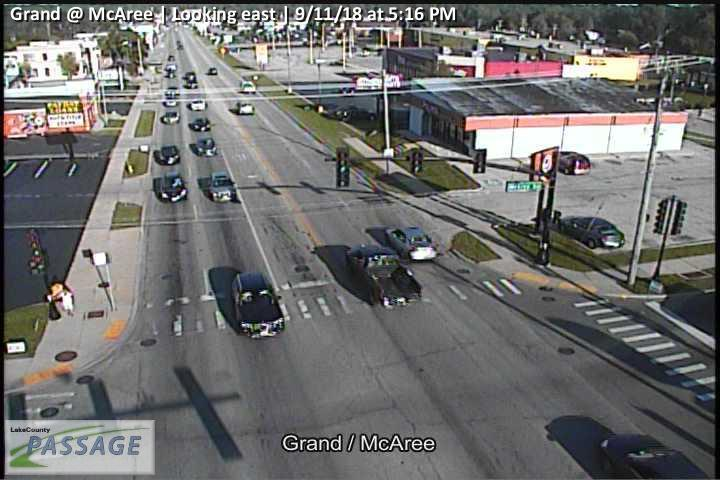Sedan: (598, 432, 711, 480), (232, 272, 285, 337), (560, 215, 625, 249), (385, 228, 438, 262), (159, 173, 188, 202), (208, 172, 236, 202), (558, 151, 591, 175), (196, 136, 217, 158), (159, 145, 179, 164), (190, 118, 212, 132), (234, 101, 254, 115), (189, 99, 206, 111), (239, 80, 256, 92), (163, 111, 179, 123), (167, 87, 180, 95), (186, 71, 196, 80), (166, 97, 176, 105), (187, 82, 197, 87), (209, 68, 217, 74)
Truck: (346, 244, 423, 310)
